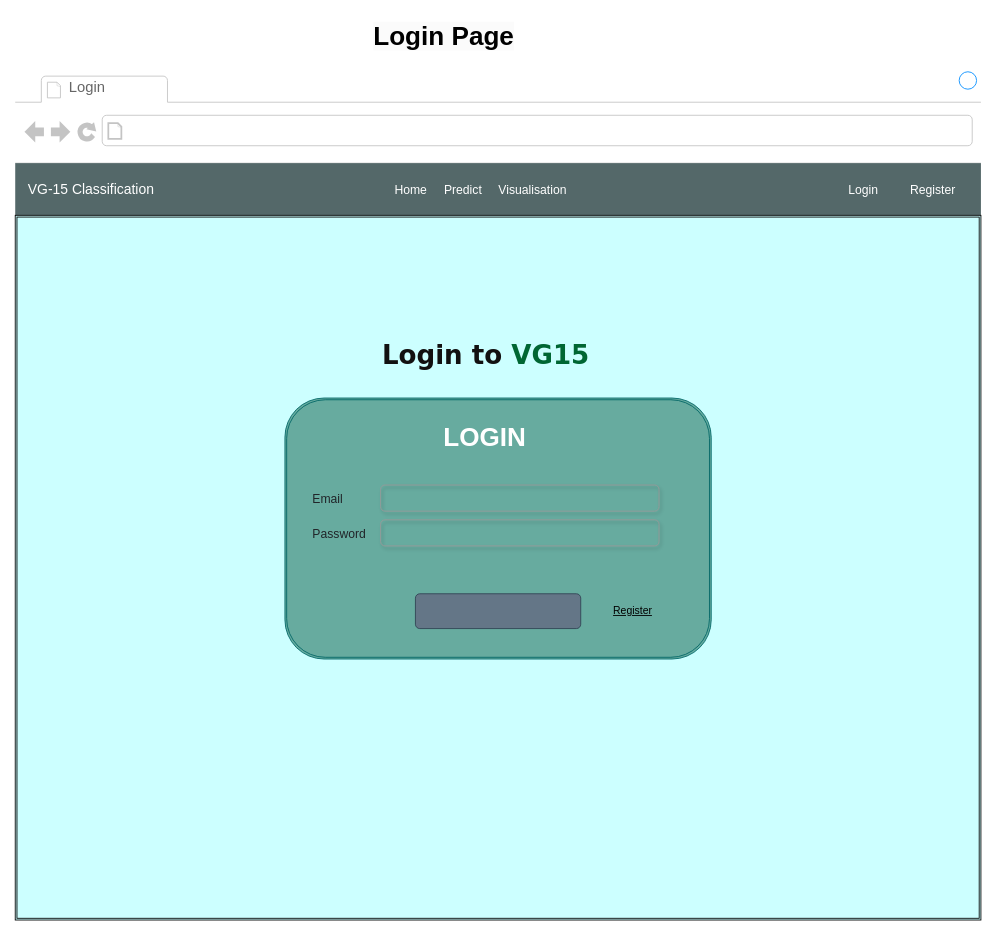
Some shapes in this 996 by 944 pixel diagram are drawn without their labels. The shapes that lost their labels are listed below. From the top down, each one's centre as x and y in pixels, then its label:
At point (236, 130): "https://login".
At point (498, 611): "Sign in".
